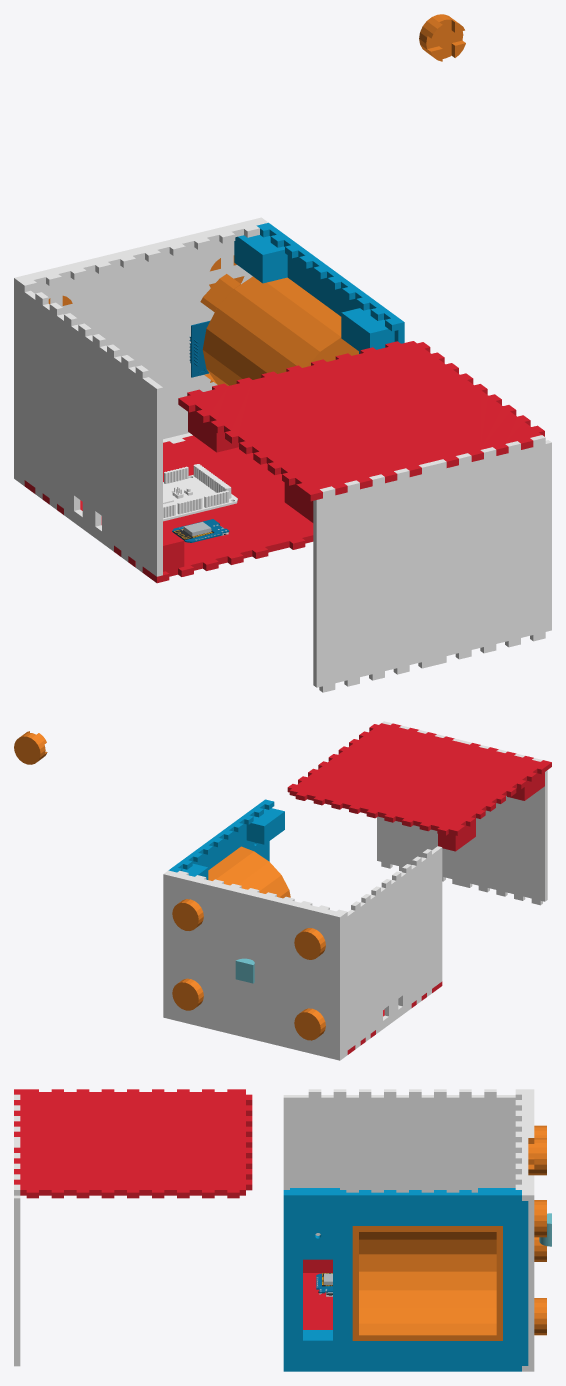
File: tinker.obj
The picture shows the model from 3 angles, top to bottom: view 1: azimuth 30°, elevation 25°; view 2: azimuth 150°, elevation 25°; view 3: azimuth 270°, elevation 25°; orthographic projection. The views are drawn at different scales.
Parts seen in each view (by area): view 1: group_0_16448250, group_0_15277357, group_0_16089887, group_0_40919, group_0_16777215, group_0_30377; view 2: group_0_16448250, group_0_15277357, group_0_16089887, group_0_40919, group_0_7720667; view 3: group_0_16448250, group_0_15277357, group_0_40919, group_0_16089887.
Part boxes in pixels (x1,y1,x2,y2): group_0_16448250: [14, 217, 551, 692]; group_0_15277357: [24, 341, 544, 583]; group_0_16089887: [48, 14, 465, 385]; group_0_40919: [234, 222, 404, 353]; group_0_16777215: [163, 464, 237, 521]; group_0_30377: [172, 321, 229, 542]; group_0_16448250: [163, 721, 547, 1060]; group_0_15277357: [287, 723, 551, 1054]; group_0_16089887: [14, 731, 325, 1040]; group_0_40919: [168, 799, 284, 879]; group_0_7720667: [235, 958, 254, 983]; group_0_16448250: [14, 1089, 534, 1371]; group_0_15277357: [14, 1089, 332, 1329]; group_0_40919: [283, 1188, 528, 1371]; group_0_16089887: [352, 1125, 546, 1340].
Bounding box in the file's own units: 363 × 273 × 429.
